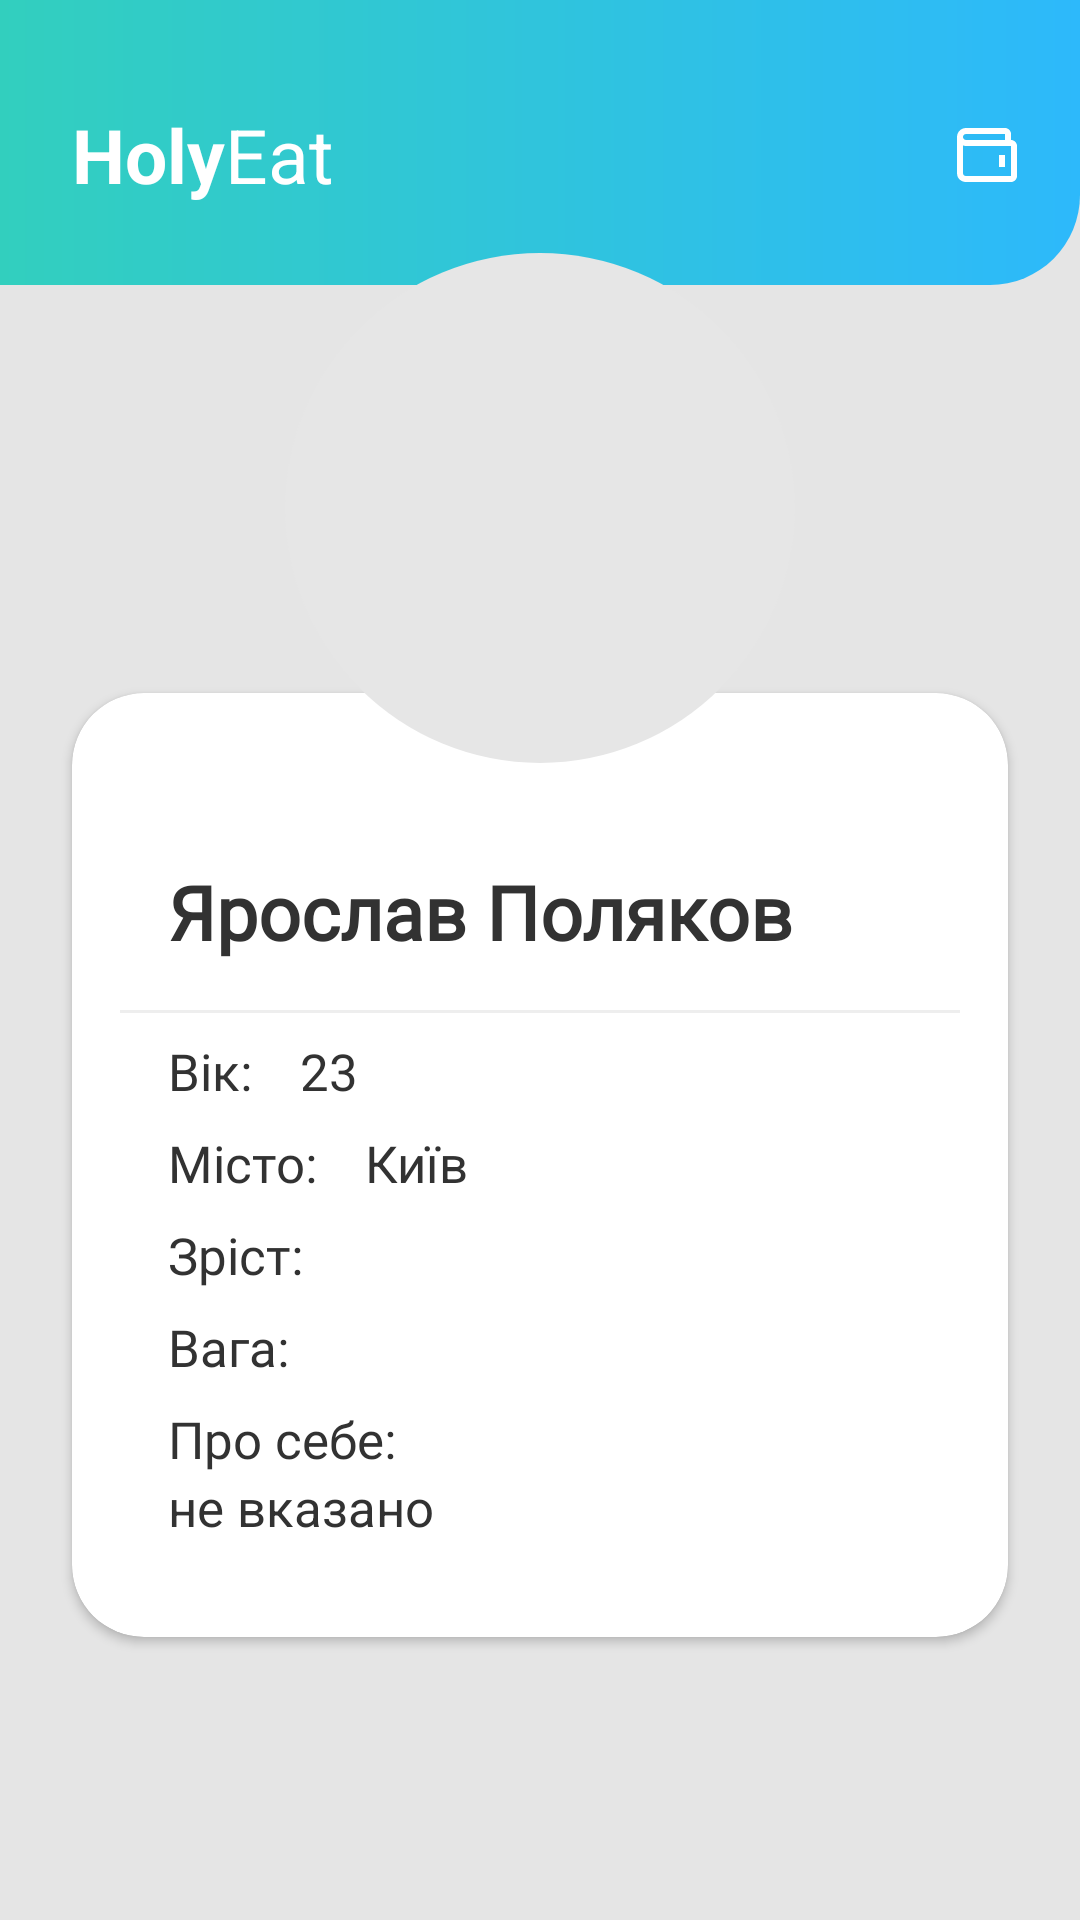

Named icons in this screenshot (1080x1920) and their bounding boxes, (x1, y1, x2, y2):
wallet: (957, 128, 1017, 182)
